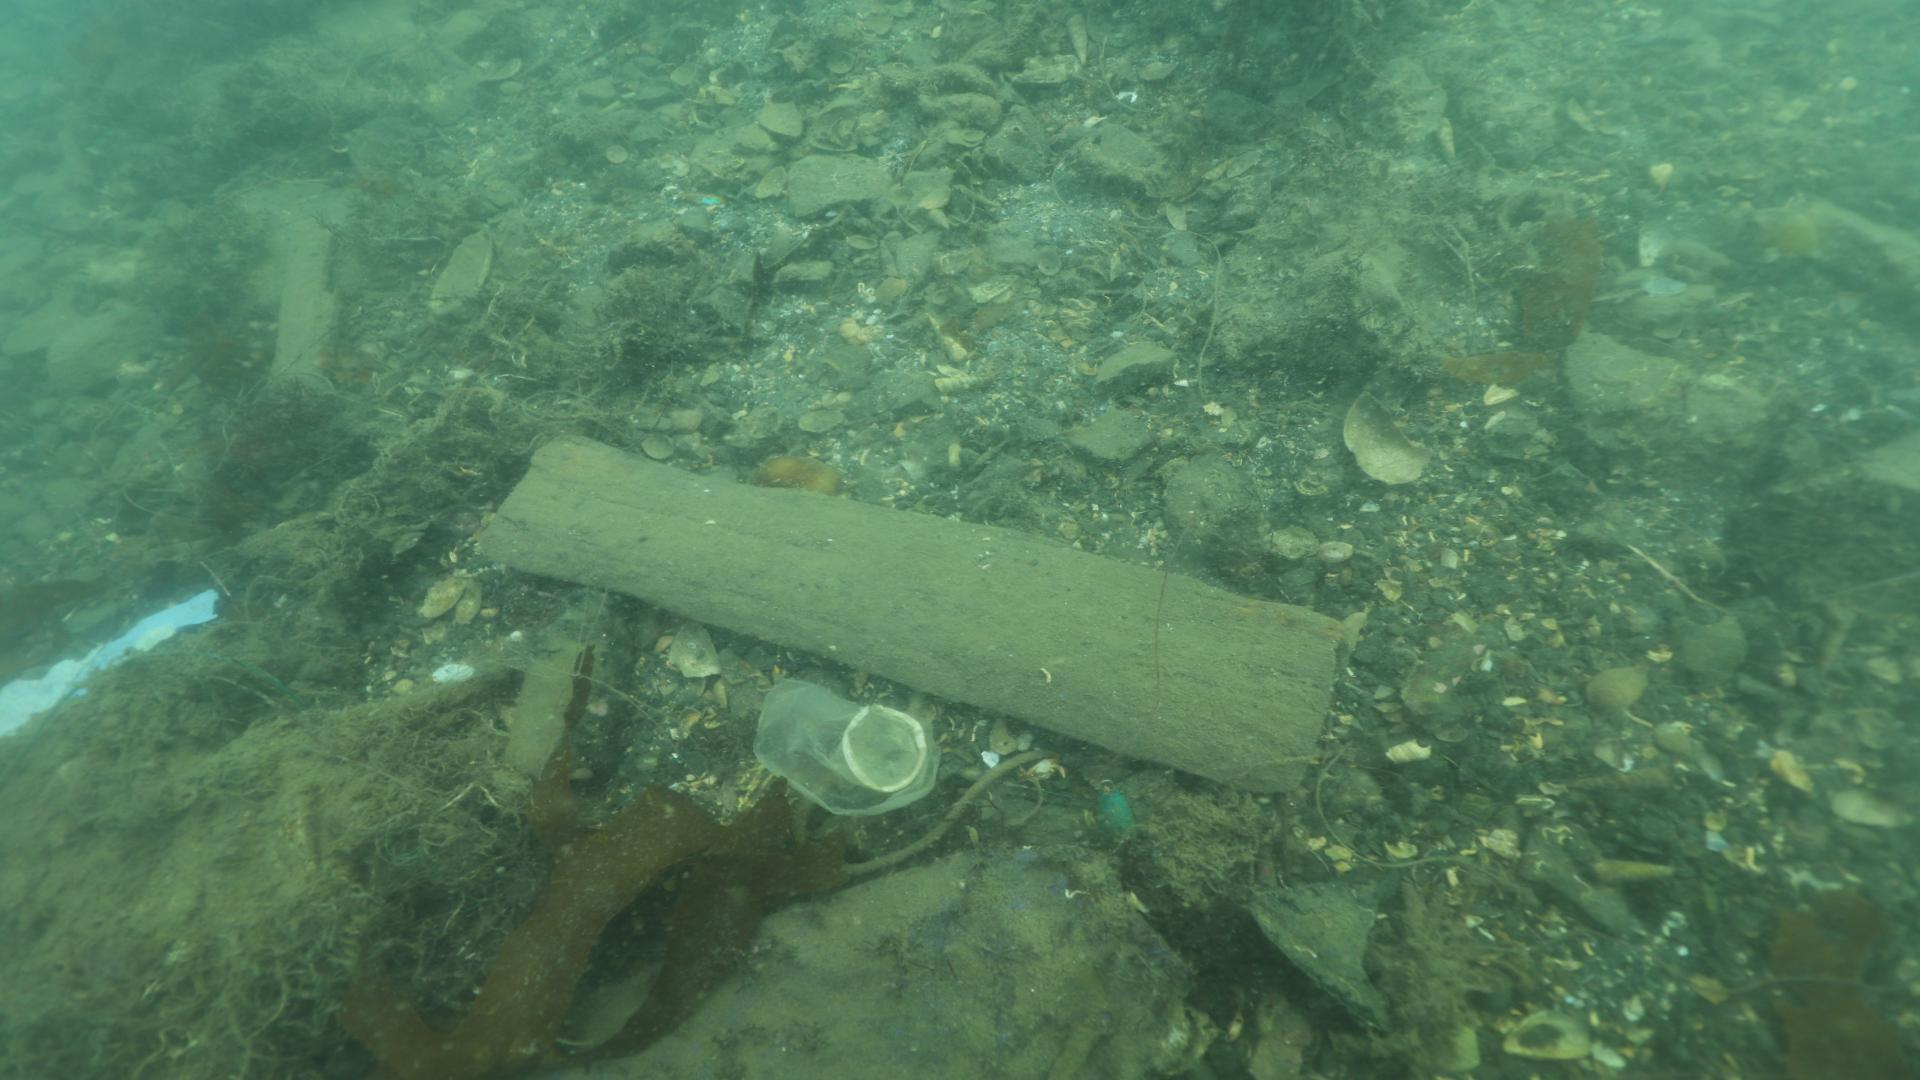wood: (472, 429, 1346, 796)
